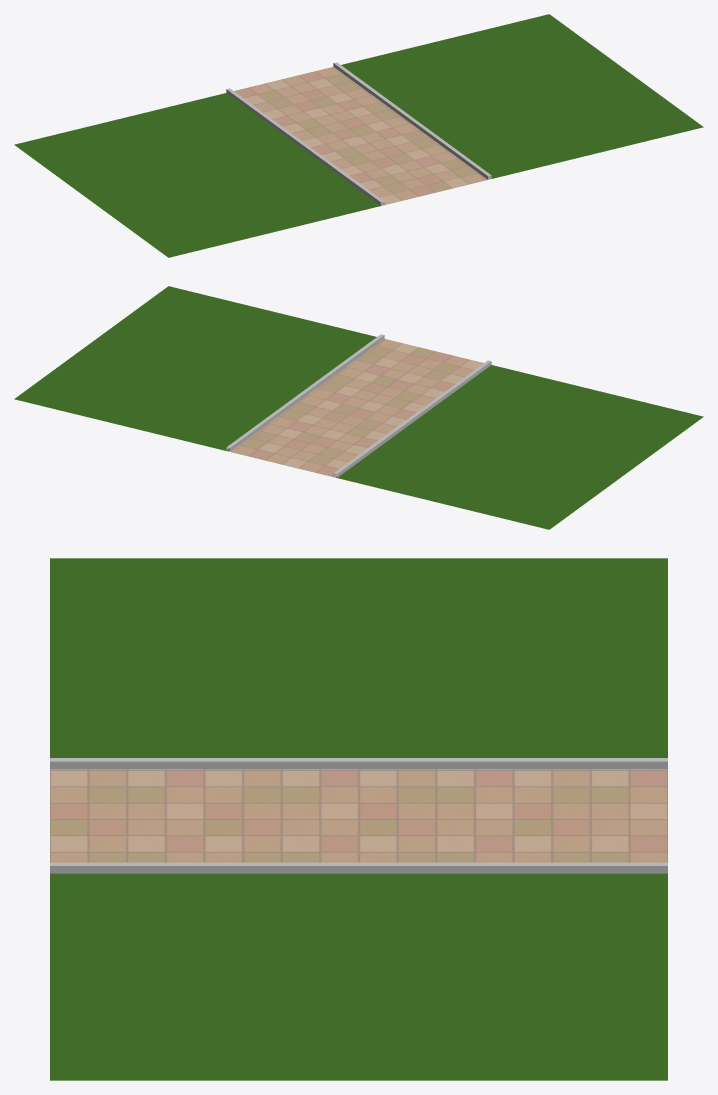
File: Park_Sidewalk_12.fbx
The picture shows the model from 3 angles, top to bottom: view 1: azimuth 30°, elevation 25°; view 2: azimuth 150°, elevation 25°; view 3: azimuth 270°, elevation 25°; orthographic projection. The views are drawn at different scales.
Visible parts, largest first — view 1: Park_Sidewalk_12; view 2: Park_Sidewalk_12; view 3: Park_Sidewalk_12.
Boxes of the visible parts, x1,y1,x2,y2 form: Park_Sidewalk_12: (14,14,703,257); Park_Sidewalk_12: (14,286,703,529); Park_Sidewalk_12: (50,558,667,1080).
Bounding box in the file's own units: 3000 × 1500 × 20.
